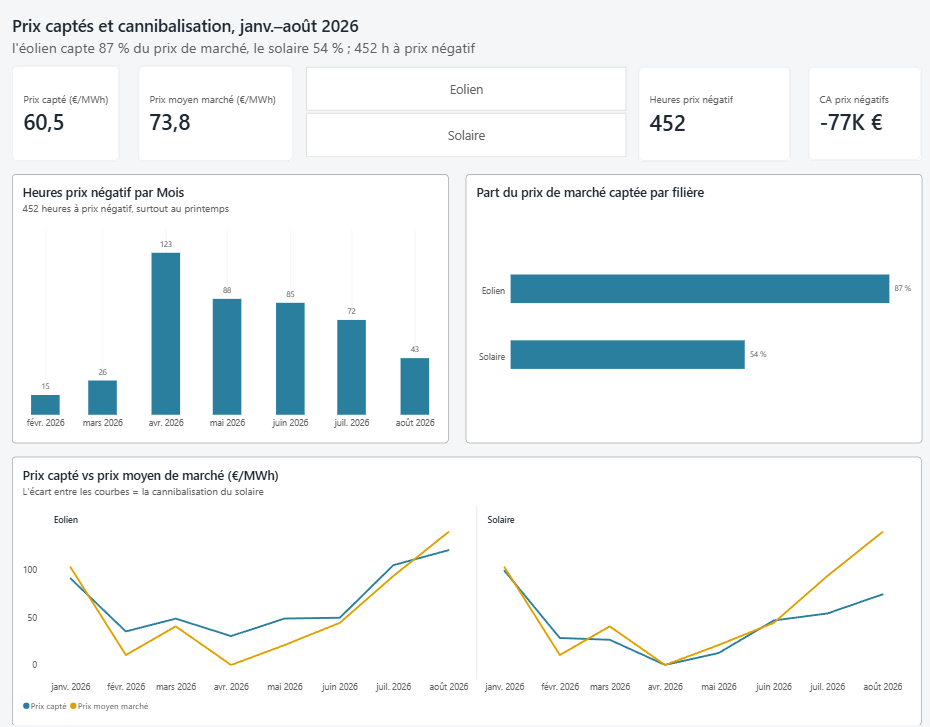

The page's visual inventory and layout, read from the dashboard file:
{"tool":"powerbi","page":{"name":" Prix et cannibalisation","canvas":[1500,2000],"ordinal":1},"visuals":[{"type":"lineChart","title":" Prix capté vs prix moyen de marché (€/MWh)","fields":{"Category":["Calendrier.Mois"],"Rows":["Filiere.filiere"],"Y":["v_revenus_horaires.Prix capté"],"Y2":["v_revenus_horaires.Prix moyen marché"]},"box":[24,742,1455,430],"z":0},{"type":"barChart","title":"Part du prix de marché captée par filière","fields":{"Category":["Filiere.filiere"],"Y":["v_revenus_horaires.Facteur de capture"]},"box":[750,290,730,430],"z":1000},{"type":"clusteredColumnChart","fields":{"Category":["Calendrier.Mois"],"Y":["v_revenus_horaires.Heures prix négatif"]},"box":[24,290,698.3,430],"z":2000},{"type":"cardVisual","fields":{"Data":["v_revenus_horaires.Prix capté"]},"box":[24,116,172,154],"z":3000},{"type":"textbox","title":" Prix captés et cannibalisation, janv.–août 2026","box":[24,33,900,80],"z":4000},{"type":"cardVisual","fields":{"Data":["v_revenus_horaires.Prix moyen marché"]},"box":[226,116,248,154],"z":5000},{"type":"cardVisual","fields":{"Data":["v_revenus_horaires.Heures prix négatif"]},"box":[1026,118,244,152],"z":6000},{"type":"cardVisual","fields":{"Data":["v_revenus_horaires.CA prix négatifs"]},"box":[1298.6,118.6,181.4,150],"z":7000},{"type":"slicer","title":"Répartition filière énergétique","fields":{"Values":["Filiere.filiere"]},"box":[474,116,552,148],"z":8000}]}

Visuals, with their boxes on the page's 1500x2000 design canvas (x1, y1, x2, y2). These are canvas units, not pixel positions in the 930x727 screenshot, which may show the page scaled, cropped or inside an application window:
" Prix capté vs prix moyen de marché (€/MWh)" lineChart: BBox(24, 742, 1479, 1172)
"Part du prix de marché captée par filière" barChart: BBox(750, 290, 1480, 720)
clusteredColumnChart - Calendrier.Mois x v_revenus_horaires.Heures prix négatif: BBox(24, 290, 722, 720)
cardVisual - v_revenus_horaires.Prix capté: BBox(24, 116, 196, 270)
" Prix captés et cannibalisation, janv.–août 2026" textbox: BBox(24, 33, 924, 113)
cardVisual - v_revenus_horaires.Prix moyen marché: BBox(226, 116, 474, 270)
cardVisual - v_revenus_horaires.Heures prix négatif: BBox(1026, 118, 1270, 270)
cardVisual - v_revenus_horaires.CA prix négatifs: BBox(1299, 119, 1480, 269)
"Répartition filière énergétique" slicer: BBox(474, 116, 1026, 264)
